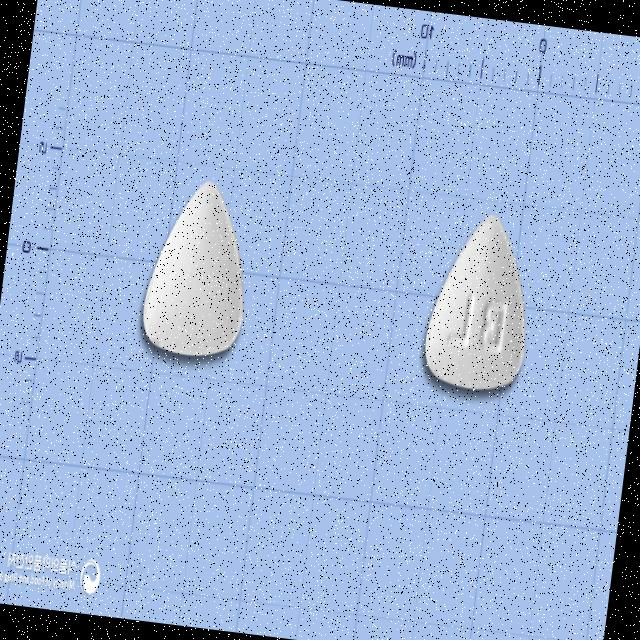Baracle -1mg: (133, 168, 262, 370), (416, 206, 544, 400)
